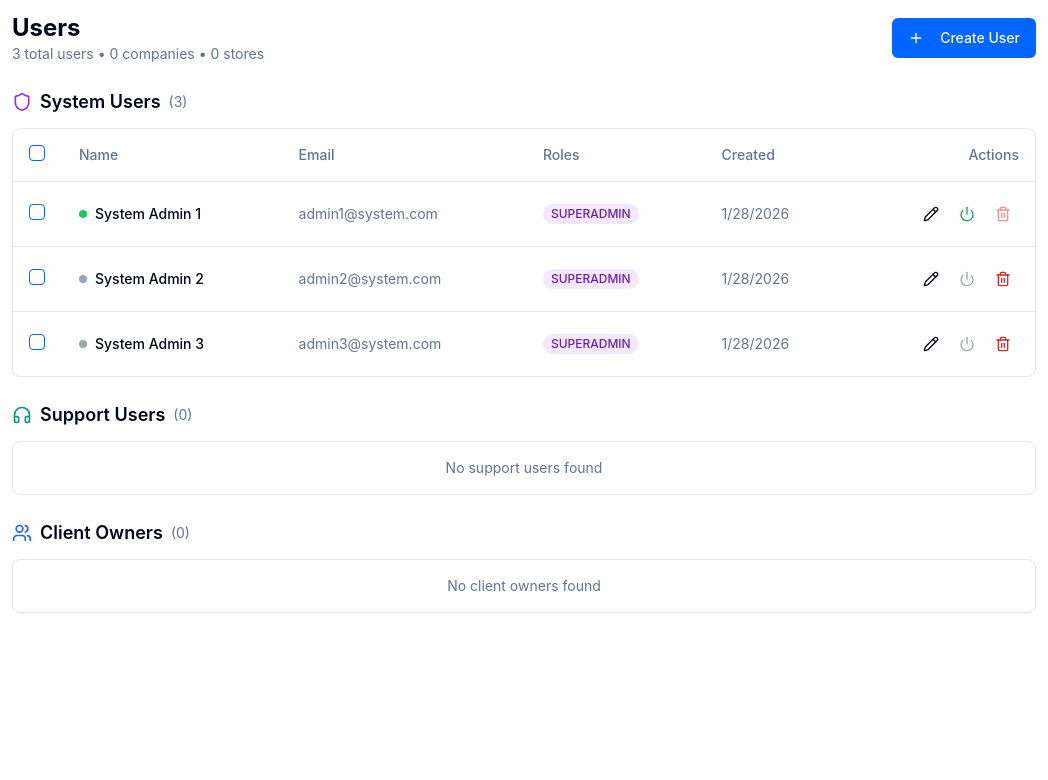
HierarchicalUserList Component › Bulk Selection › [P0] HUL-071: should select all users when header checkbox is clicked
The width and height of the screenshot is (1048, 780).
Click the checkbox named "Select all system users" at (37, 153), box [29,145,45,161]
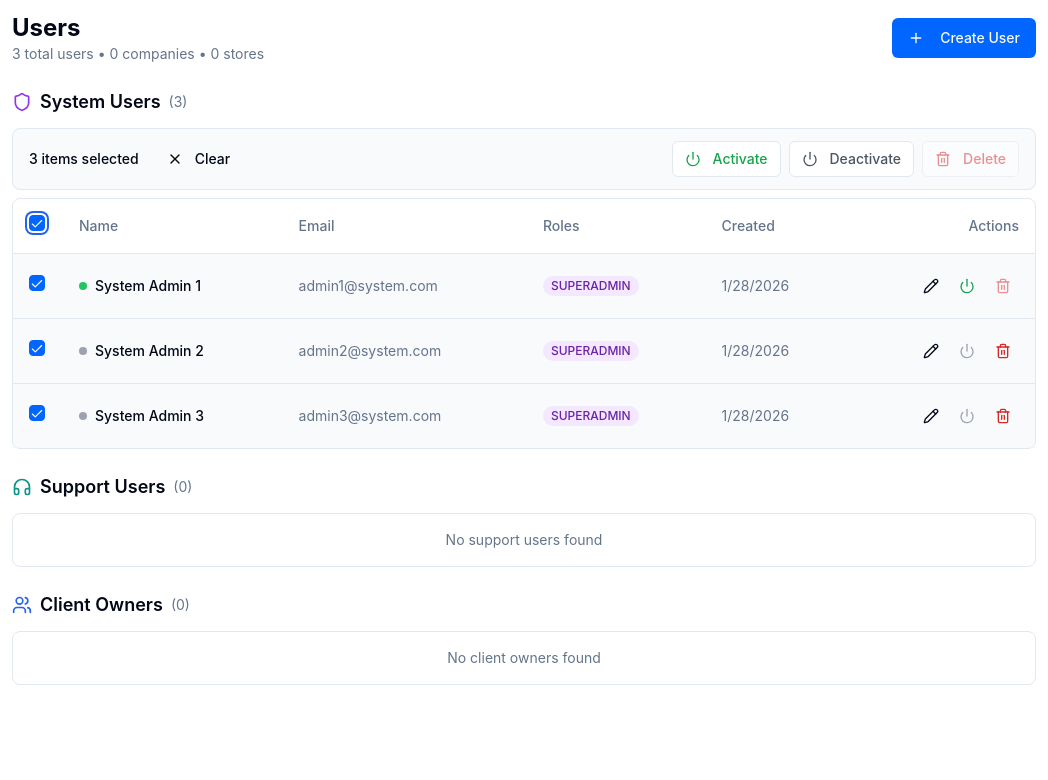
Expected: the checkbox named "Select System Admin 1" is checked, [29,275,45,291]
Expected: the checkbox named "Select System Admin 2" is checked, [29,340,45,356]
Expected: the checkbox named "Select System Admin 3" is checked, [29,405,45,421]
